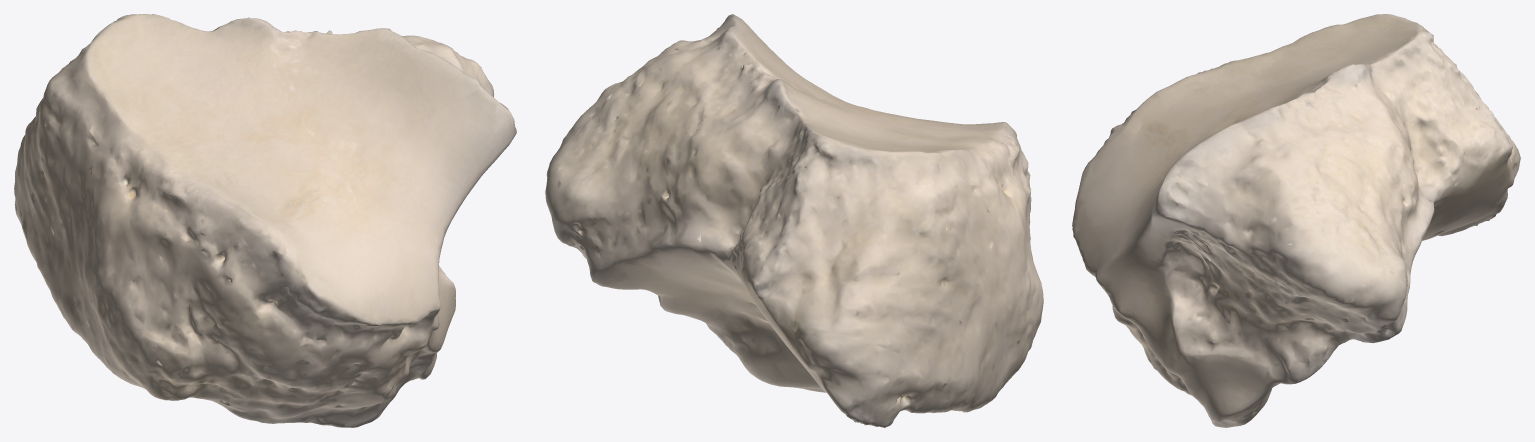
3 renders of one model, left to right at view 1: azimuth 30°, elevation 25°; view 2: azimuth 150°, elevation 25°; view 3: azimuth 270°, elevation 25°, orthographic. The views are drawn at different scales.
Parts seen in each view (by area): view 1: Os tarsale tertium_li_Schwein.001; view 2: Os tarsale tertium_li_Schwein.001; view 3: Os tarsale tertium_li_Schwein.001.
Boxes of the visible parts, <box> form: Os tarsale tertium_li_Schwein.001: <box>14,14,516,427</box>; Os tarsale tertium_li_Schwein.001: <box>545,14,1043,427</box>; Os tarsale tertium_li_Schwein.001: <box>1072,14,1520,427</box>.
Bounding box in the file's own units: 2182 × 1788 × 2151.
1 material, 1 textured.
